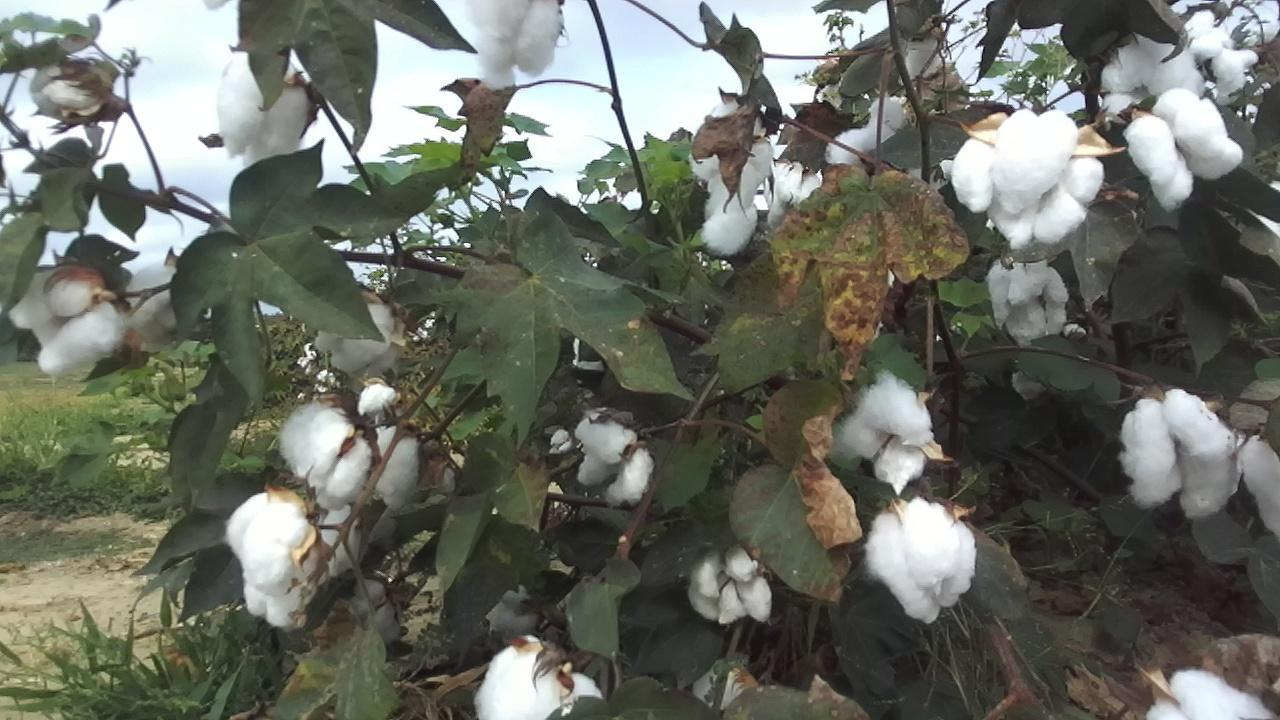cotton_ready: (952, 107, 1102, 251), (1122, 389, 1241, 519), (283, 401, 425, 507), (1124, 89, 1245, 210), (868, 497, 979, 624), (8, 269, 127, 378), (694, 104, 774, 255), (230, 495, 317, 627), (476, 635, 605, 720), (844, 372, 932, 491), (1098, 33, 1207, 114), (219, 65, 309, 163), (473, 0, 561, 92), (988, 257, 1069, 342), (686, 545, 772, 625), (577, 414, 655, 500), (312, 304, 404, 375), (1144, 670, 1273, 720), (825, 95, 909, 166), (27, 57, 104, 117), (124, 264, 185, 339), (1239, 434, 1280, 537), (323, 505, 372, 585), (897, 29, 945, 86)
